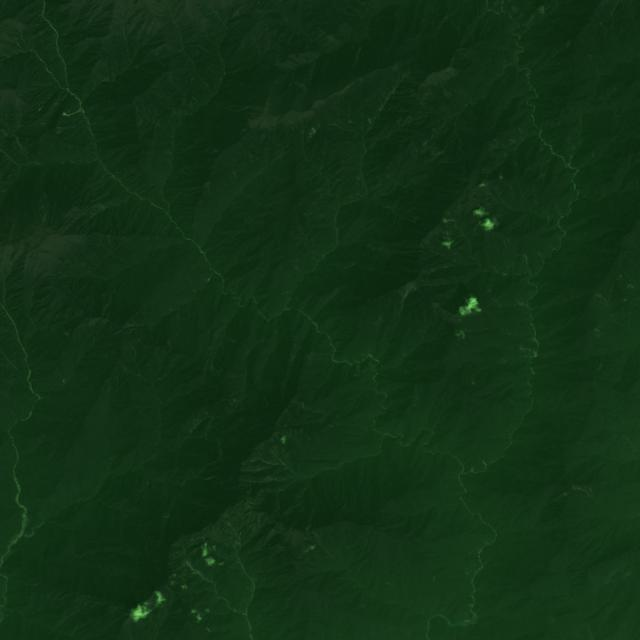landslides: (324, 118, 365, 140), (572, 485, 605, 511), (272, 447, 296, 475), (475, 305, 500, 328), (433, 135, 457, 158), (110, 81, 132, 102), (57, 119, 84, 135), (122, 72, 141, 94), (39, 90, 58, 111), (402, 282, 415, 311), (283, 501, 304, 518), (169, 313, 180, 344), (509, 185, 523, 209), (544, 492, 566, 507), (242, 458, 283, 466), (148, 91, 173, 104), (278, 477, 301, 491), (217, 103, 242, 115), (594, 25, 615, 39), (414, 113, 431, 129), (290, 400, 314, 411), (553, 22, 573, 35), (221, 343, 231, 366), (26, 63, 43, 76), (418, 52, 429, 72), (211, 352, 219, 378), (216, 352, 226, 372), (18, 88, 38, 98), (477, 313, 492, 326), (105, 290, 115, 309), (253, 37, 261, 60), (335, 474, 341, 504), (473, 316, 485, 331), (299, 174, 319, 183), (222, 519, 236, 531), (347, 119, 363, 129), (443, 36, 453, 52), (188, 168, 201, 180), (424, 92, 439, 102), (542, 226, 557, 236), (40, 34, 55, 44), (309, 62, 316, 83), (28, 315, 37, 331), (617, 502, 628, 515), (241, 466, 269, 471), (450, 235, 464, 245), (51, 152, 68, 160), (38, 28, 53, 37), (157, 86, 168, 98), (457, 339, 470, 349), (115, 82, 128, 92), (151, 62, 169, 69), (240, 71, 251, 82), (31, 14, 42, 25), (446, 231, 461, 239), (31, 82, 55, 87), (496, 186, 503, 202), (611, 447, 622, 457), (293, 264, 303, 275), (515, 297, 527, 306), (166, 297, 184, 303), (462, 322, 474, 331), (97, 202, 110, 210), (435, 83, 443, 96), (210, 69, 223, 77), (126, 85, 136, 95)
